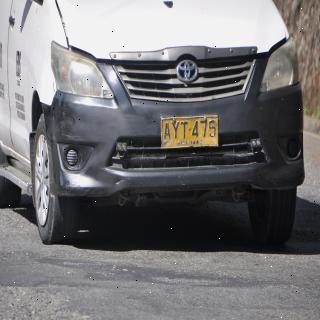license: (162, 116, 220, 150)
